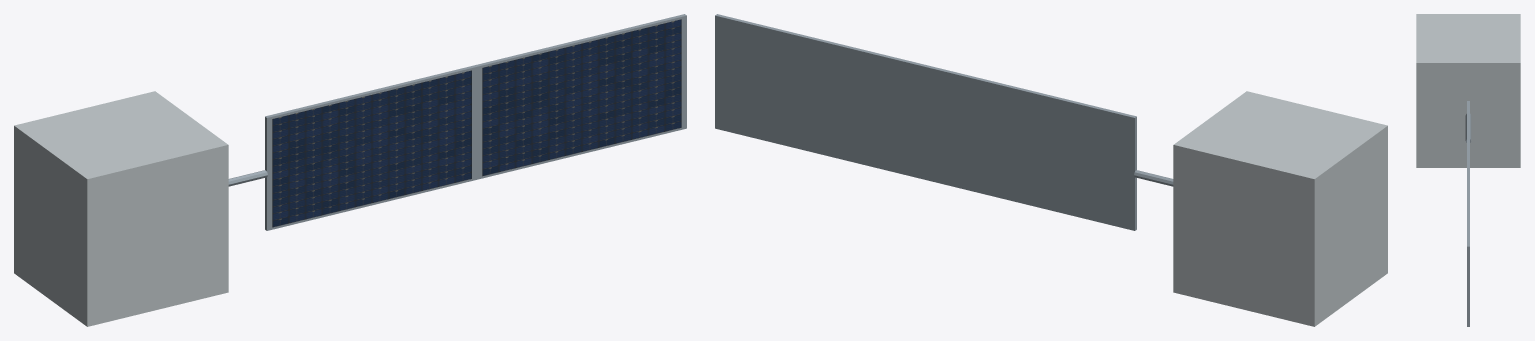
Rendered from ref-zy-25940.glb.
3 renders of one model, left to right at view 1: azimuth 30°, elevation 25°; view 2: azimuth 150°, elevation 25°; view 3: azimuth 270°, elevation 25°, orthographic. The views are drawn at different scales.
Visible parts, largest first — view 1: Photovoltaic laminates (×2), Spacecraft body, Array frame (×2); view 2: Array frame (×2), Spacecraft body; view 3: Spacecraft body, Array frame (×2), Solar array drive.
Boxes of the visible parts, left/top/right/bottom form: Photovoltaic laminates (×2): left=272, top=19, right=681, bottom=227; Spacecraft body: left=14, top=91, right=228, bottom=326; Array frame (×2): left=265, top=14, right=686, bottom=230; Array frame (×2): left=715, top=14, right=1136, bottom=230; Spacecraft body: left=1173, top=91, right=1387, bottom=326; Spacecraft body: left=1416, top=14, right=1520, bottom=167; Array frame (×2): left=1467, top=101, right=1469, bottom=326; Solar array drive: left=1465, top=113, right=1471, bottom=142.
Bounding box in the file's own units: 9 × 2 × 1.8.
Materials: 3 (1 with a texture image).
